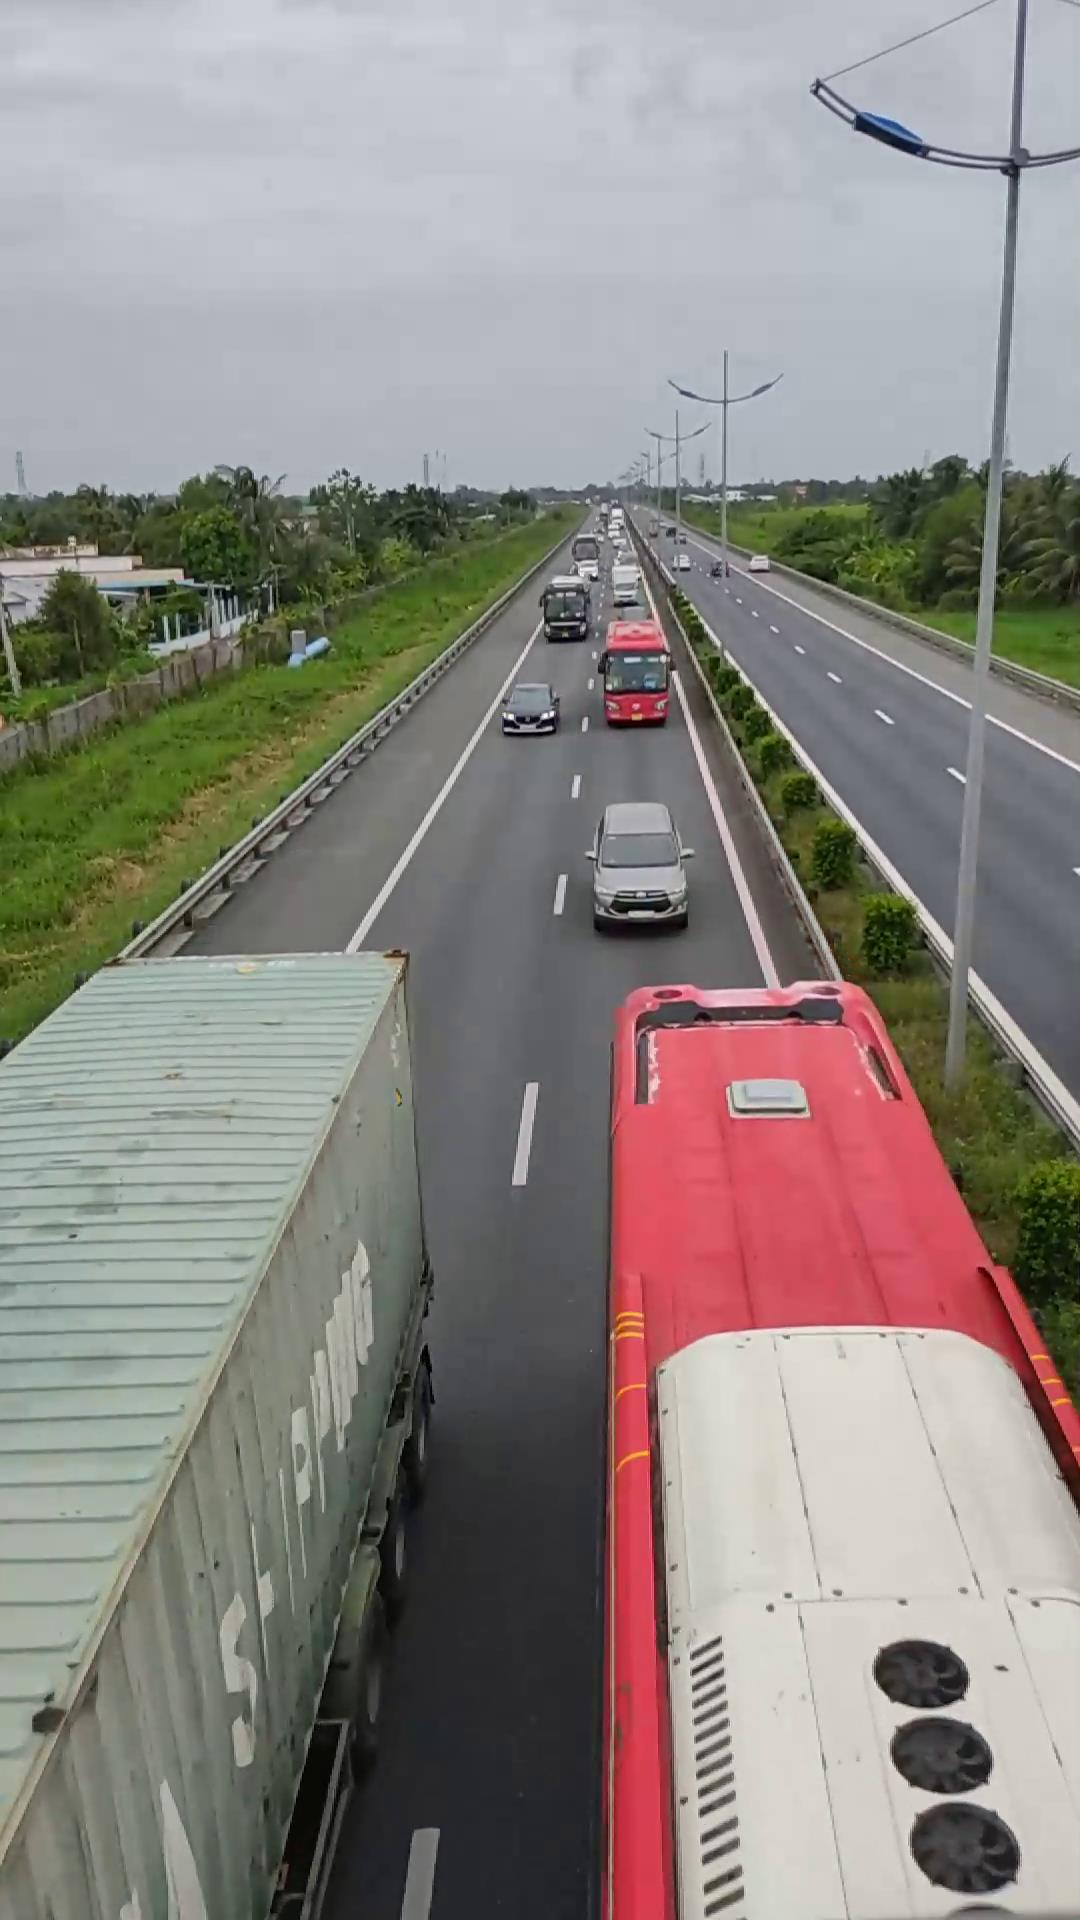bus: (605, 980, 1073, 1912)
car: (585, 800, 693, 930)
container: (0, 940, 448, 1920)
